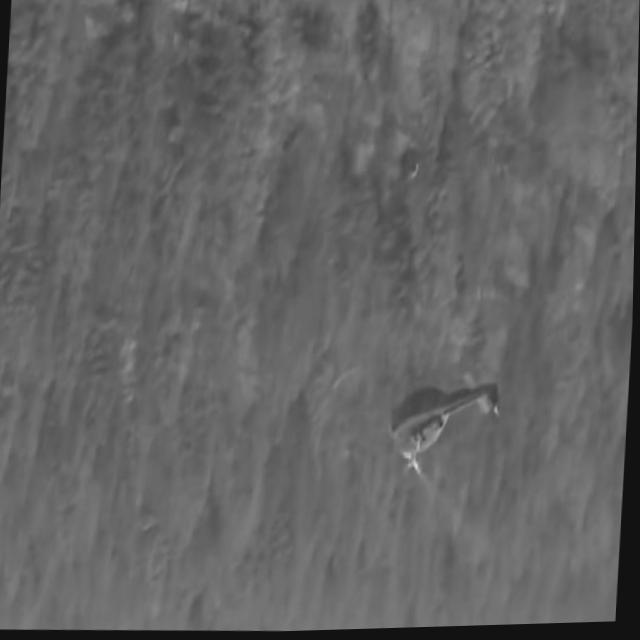helikopter: (364, 336, 526, 517)
